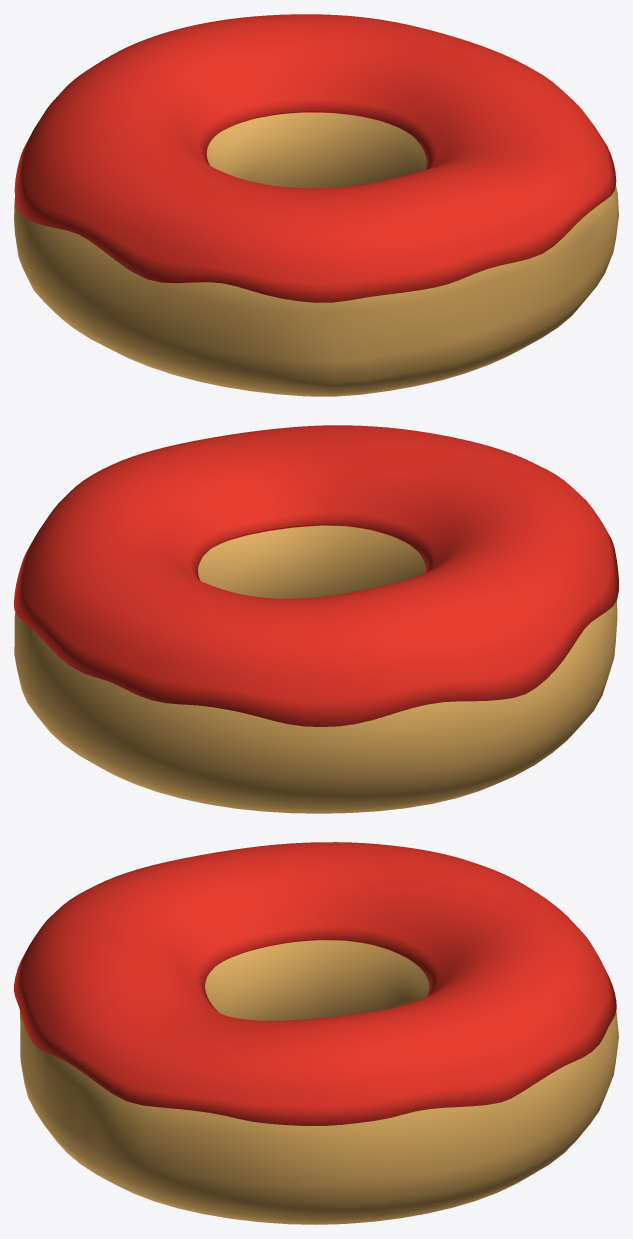
The picture shows the model from 3 angles, top to bottom: view 1: azimuth 30°, elevation 25°; view 2: azimuth 150°, elevation 25°; view 3: azimuth 270°, elevation 25°; orthographic projection. The views are drawn at different scales.
Parts seen in each view (by area): view 1: Object_50; view 2: Object_50; view 3: Object_50.
Part boxes in pixels (<box>): Object_50: <box>14,14,618,396</box>; Object_50: <box>14,425,618,813</box>; Object_50: <box>14,842,618,1224</box>.
Size of the model in its own units: 59.11 by 21.49 by 59.62.
